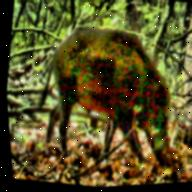boar: (20, 0, 192, 180)
